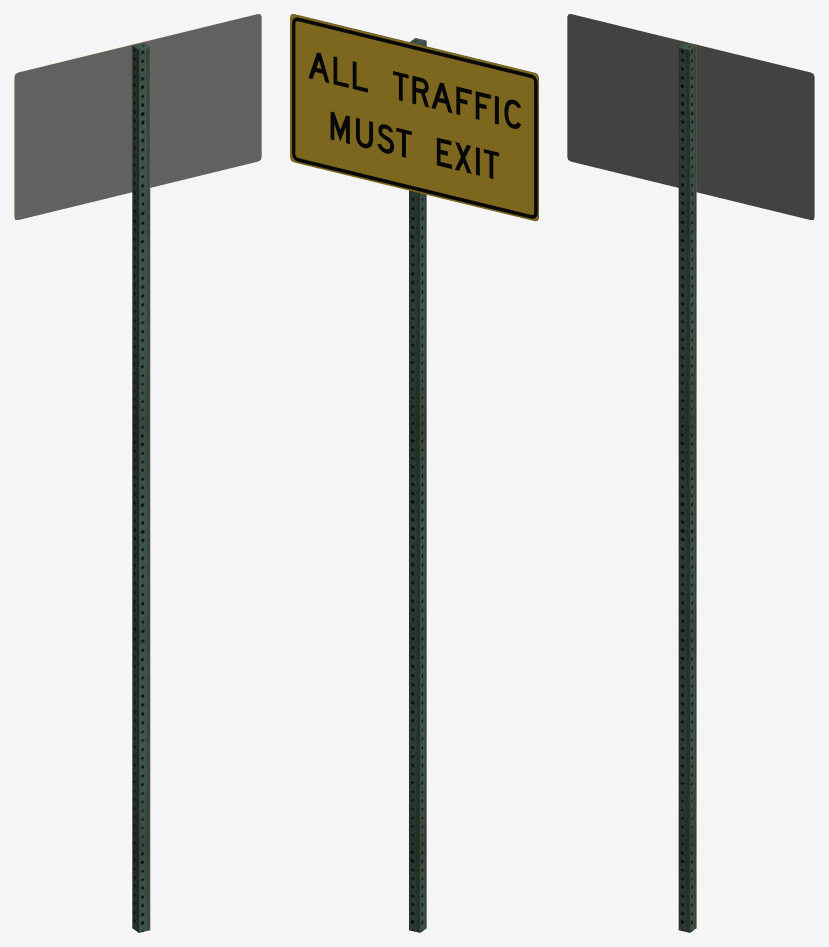
Rendered from GSDSign861-Small.FBX.
3 views of the same model, side by side, from view 1: azimuth 30°, elevation 25°; view 2: azimuth 150°, elevation 25°; view 3: azimuth 330°, elevation 25° (orthographic).
Visible parts, largest first — view 1: GSDSign861-Small; view 2: GSDSign861-Small; view 3: GSDSign861-Small.
Boxes of the visible parts, bbox=[...] form: GSDSign861-Small: bbox=[14, 14, 261, 932]; GSDSign861-Small: bbox=[290, 14, 538, 932]; GSDSign861-Small: bbox=[567, 14, 814, 932].
Size of the model in its own units: 0.6593 by 2.25 by 0.031.
Materials: 1 (1 with a texture image).
